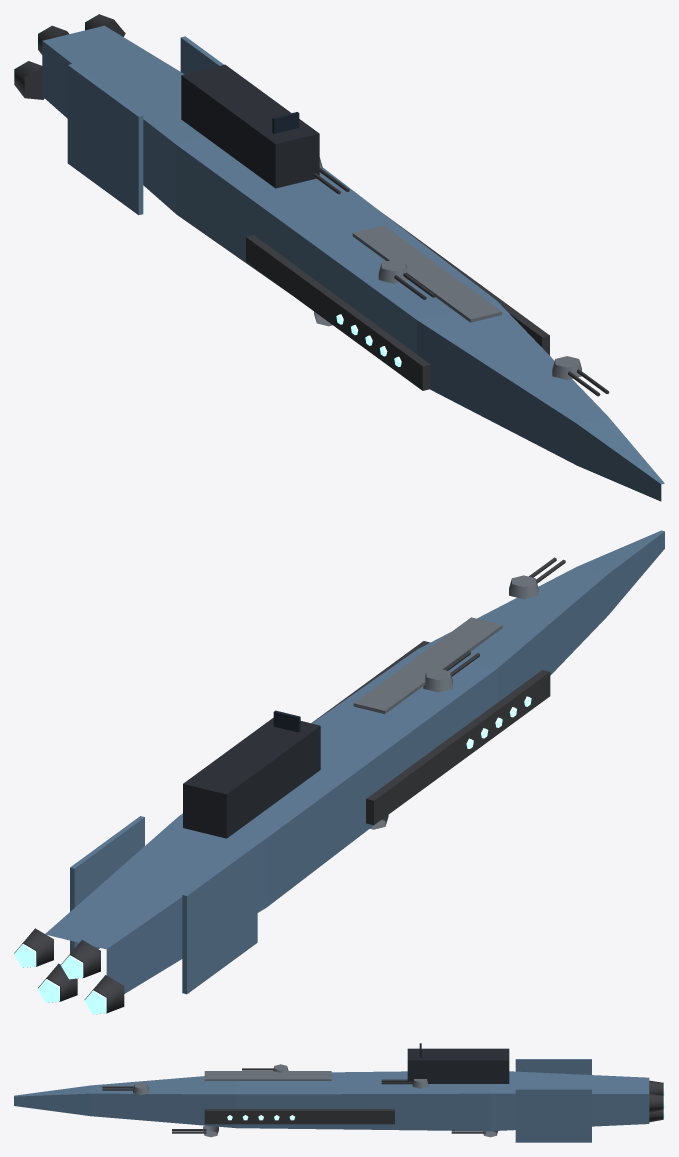
Rendered from space_ship_destroyer_mk5_lod1.glb.
The picture shows the model from 3 angles, top to bottom: view 1: azimuth 30°, elevation 25°; view 2: azimuth 150°, elevation 25°; view 3: azimuth 270°, elevation 25°; orthographic projection. The views are drawn at different scales.
Visible parts, largest first — view 1: body, engine_0, turret_0, turret_2; view 2: body, engine_0, engine_1, engine_3, engine_2, turret_0, turret_2; view 3: body, turret_0, turret_1, turret_4, engine_3, engine_1, turret_2, turret_5.
Boxes of the visible parts, x1,y1,x2,y2 form: body: (42,25,664,501); engine_0: (14,61,44,99); turret_0: (552,356,609,396); turret_2: (378,259,435,299); body: (45,530,664,994); engine_0: (84,975,124,1014); engine_1: (61,940,100,979); engine_3: (14,928,53,967); engine_2: (37,963,77,1002); turret_0: (509,557,565,599); turret_2: (423,650,479,692); body: (14,1043,649,1142); turret_0: (102,1082,148,1095); turret_1: (172,1125,218,1137); turret_4: (381,1079,428,1088); engine_3: (649,1093,664,1112); engine_1: (649,1080,664,1095); turret_2: (242,1064,288,1072); turret_5: (451,1130,497,1137).
Bounding box in the file's own units: 8.4 × 9.28 × 66.74.
